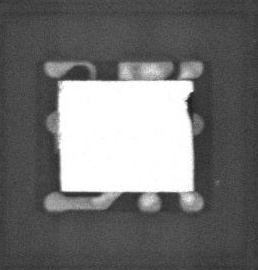DIE_BROKEN: (183, 90, 193, 128)
